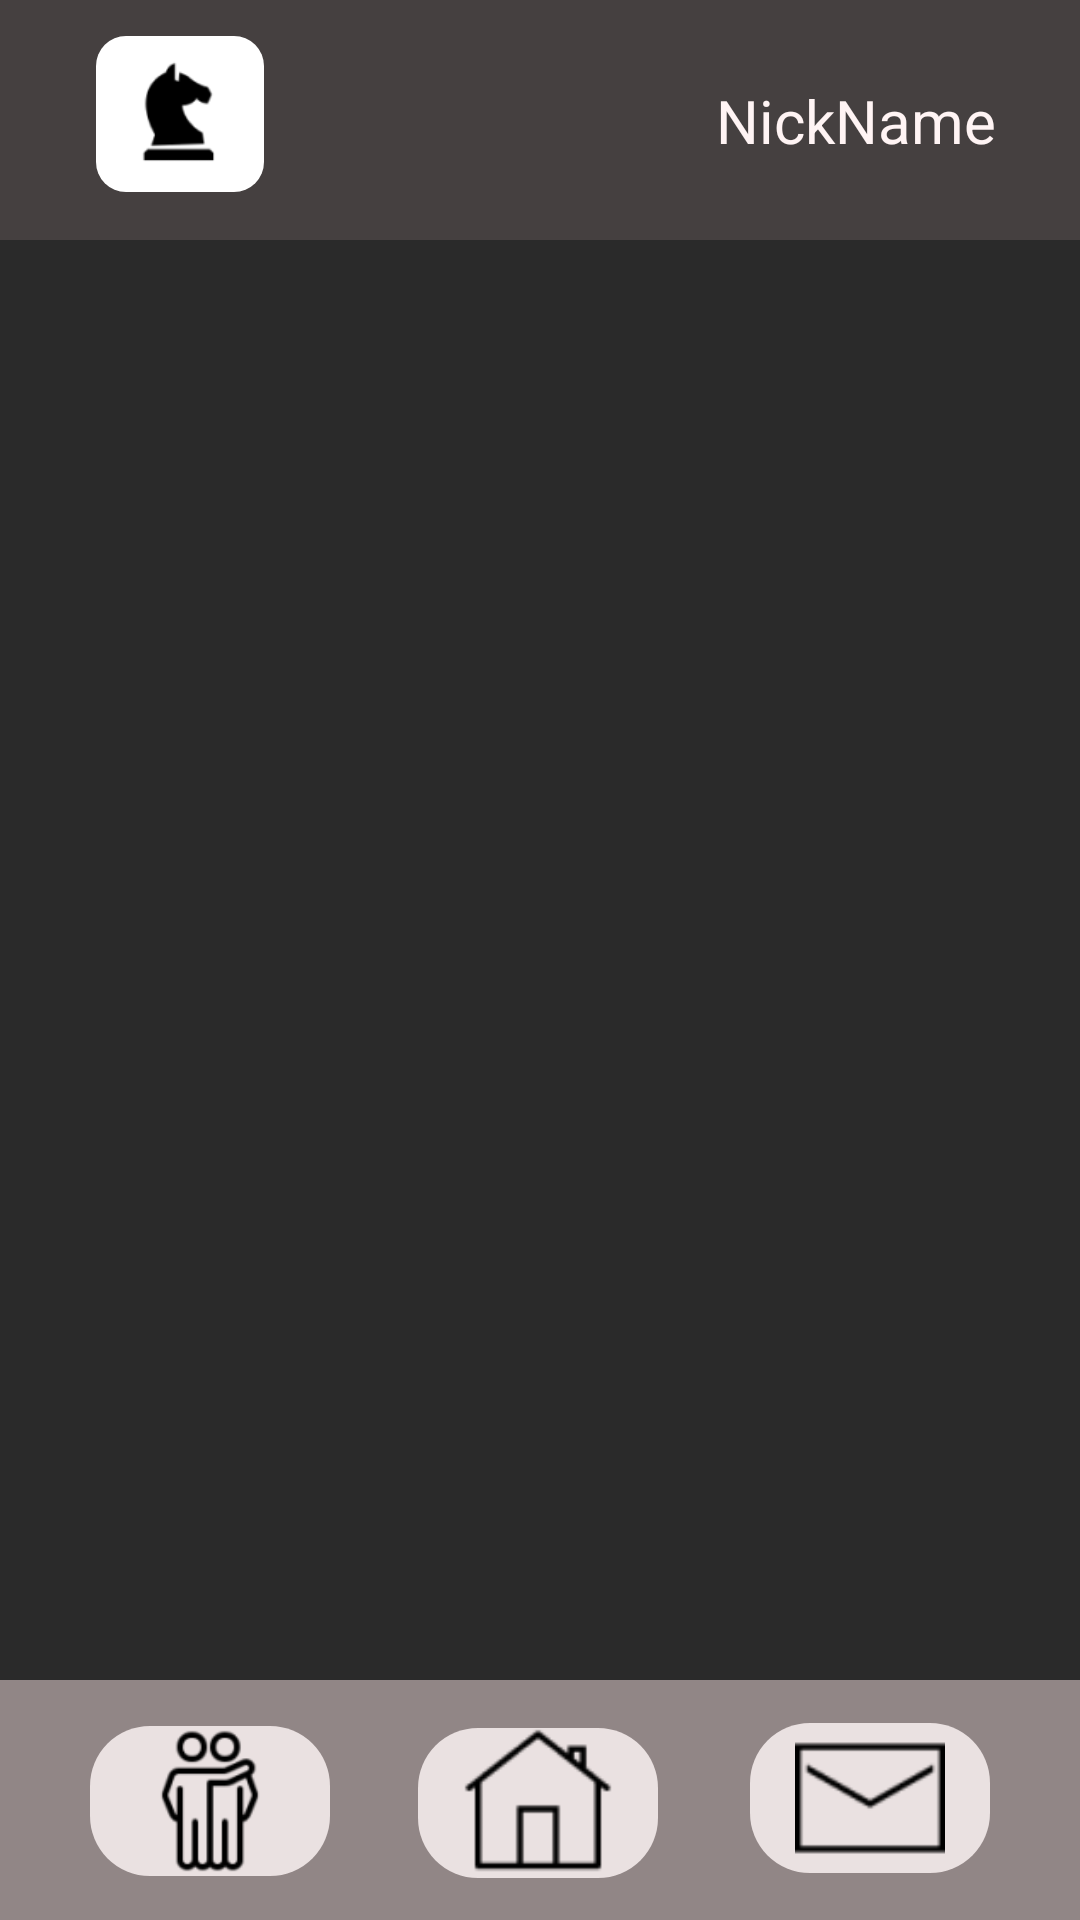

Icon bounding boxes for this 1080x1920 phone screenshot, format BBox(x1, y1, x2, y2):
Главная: BBox(418, 1728, 658, 1878)
Друзья: BBox(90, 1726, 330, 1876)
Запросы: BBox(750, 1723, 990, 1873)
